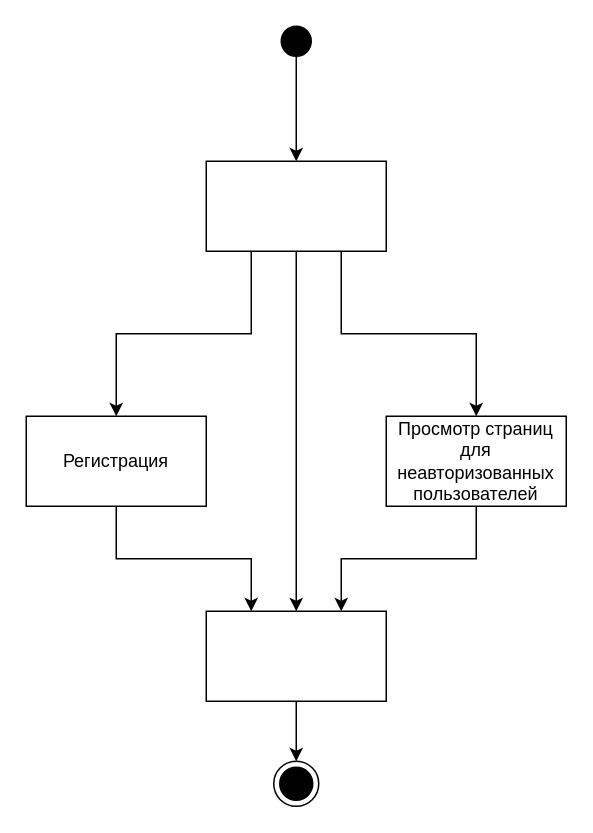
This 593x833 diagram has some shape labels left out. The shapes that lost their labels are listed below. From the top down, each one's box as (x1, y1, x2, y2) in pixels, then its label:
(205, 160, 386, 251): Открыть сайт
(205, 610, 386, 701): Покинуть сайт
